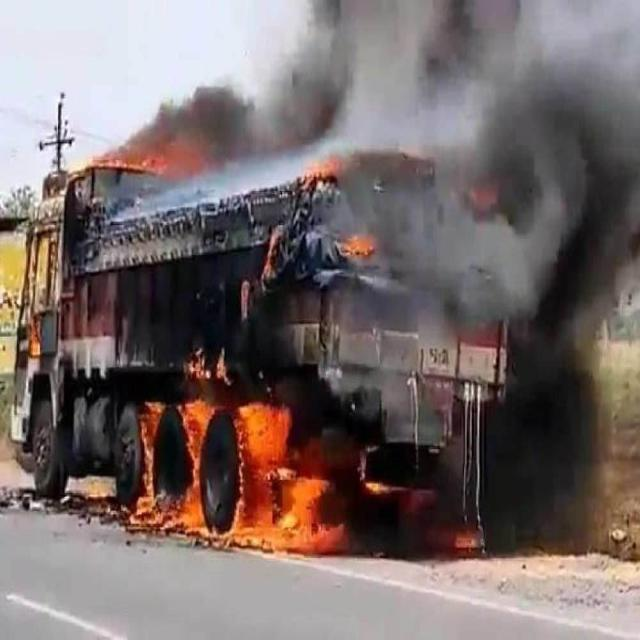accident: (11, 150, 510, 550)
